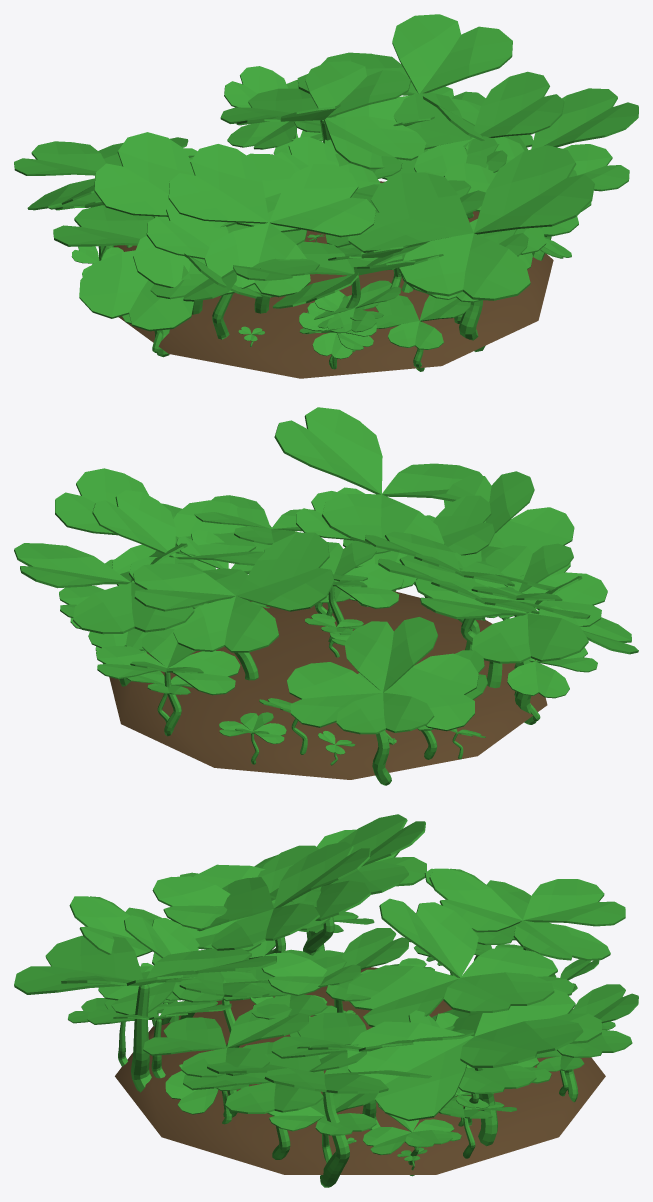
File: clover.fbx
3 views of the same model, one above another, from view 1: azimuth 30°, elevation 25°; view 2: azimuth 150°, elevation 25°; view 3: azimuth 270°, elevation 25° (orthographic). The views are drawn at different scales.
Visible parts, largest first — view 1: Vert.096, Icosphere; view 2: Vert.096, Icosphere; view 3: Vert.096, Icosphere.
Boxes of the visible parts, x1=… form: Vert.096: x1=14, y1=14, x2=638, y2=371; Icosphere: x1=114, y1=181, x2=553, y2=378; Vert.096: x1=14, y1=407, x2=638, y2=785; Icosphere: x1=109, y1=591, x2=547, y2=779; Vert.096: x1=14, y1=814, x2=638, y2=1187; Icosphere: x1=115, y1=967, x2=605, y2=1174.
Size of the model in its own units: 508 by 157 by 464.
